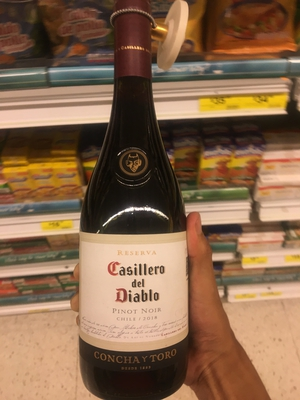casillero del diablo pinot noir: (71, 19, 210, 400)
